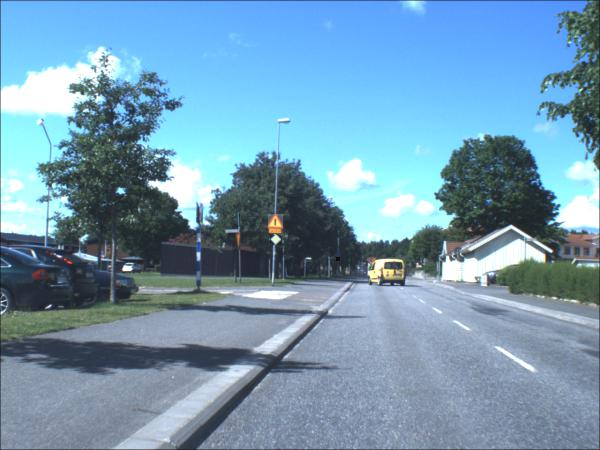50_SIGN: (336, 258, 341, 263)
GIVE_WAY: (237, 234, 241, 250)
PEDESTRIAN_CROSSING: (200, 204, 204, 223), (239, 215, 241, 228)
PRIORITY_ROAD: (270, 236, 282, 247)
WARNING: (268, 215, 284, 231)
